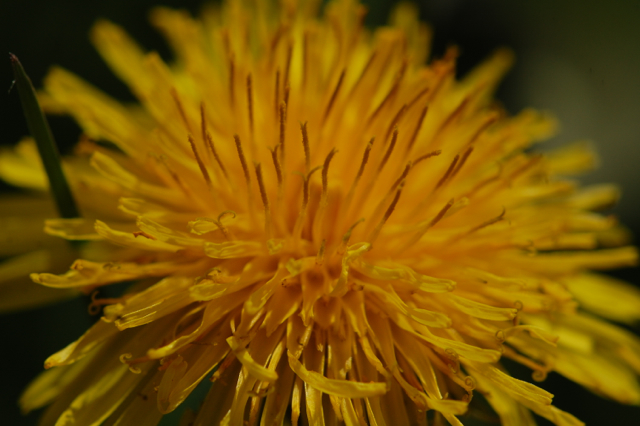dandelion: (68, 25, 592, 426)
